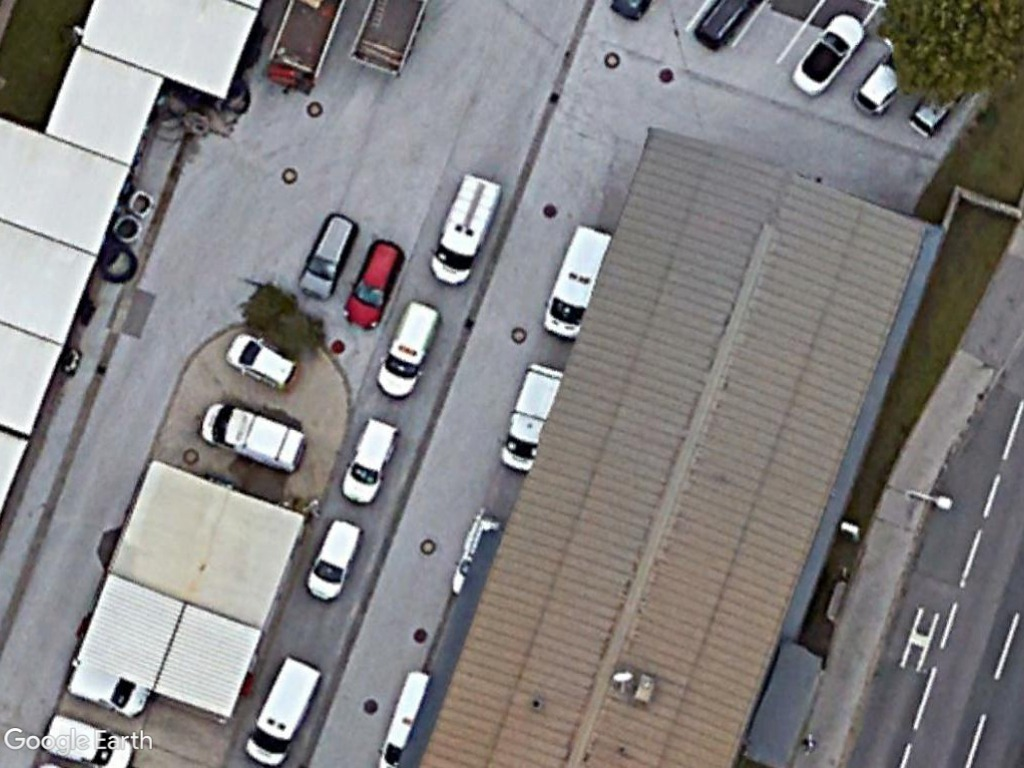car: (788, 11, 869, 100), (292, 207, 362, 304), (337, 237, 404, 331), (223, 331, 302, 392)
van: (536, 218, 613, 345), (423, 169, 504, 289), (243, 653, 324, 768), (493, 359, 567, 478), (198, 404, 309, 473), (373, 298, 441, 401), (334, 413, 400, 509), (302, 513, 363, 605), (42, 712, 137, 768)
